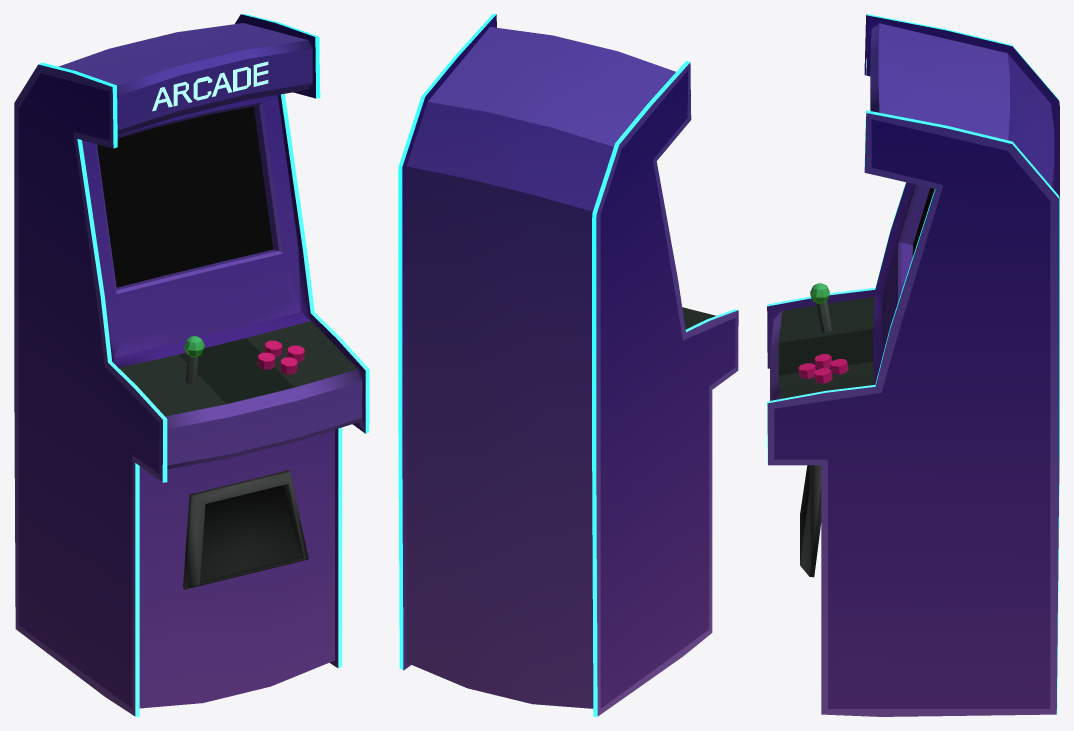
The model's file is  pink arcade.fbx.
3 views of the same model, side by side, from view 1: azimuth 30°, elevation 25°; view 2: azimuth 150°, elevation 25°; view 3: azimuth 270°, elevation 25° (orthographic). The views are drawn at different scales.
Parts seen in each view (by area): view 1: Plane.005; view 2: Plane.005; view 3: Plane.005.
Part boxes in pixels (x1,y1,x2,y2): Plane.005: (14,14,369,716); Plane.005: (398,14,738,716); Plane.005: (767,14,1059,716).
Size of the model in its own units: 114 by 326 by 142.
